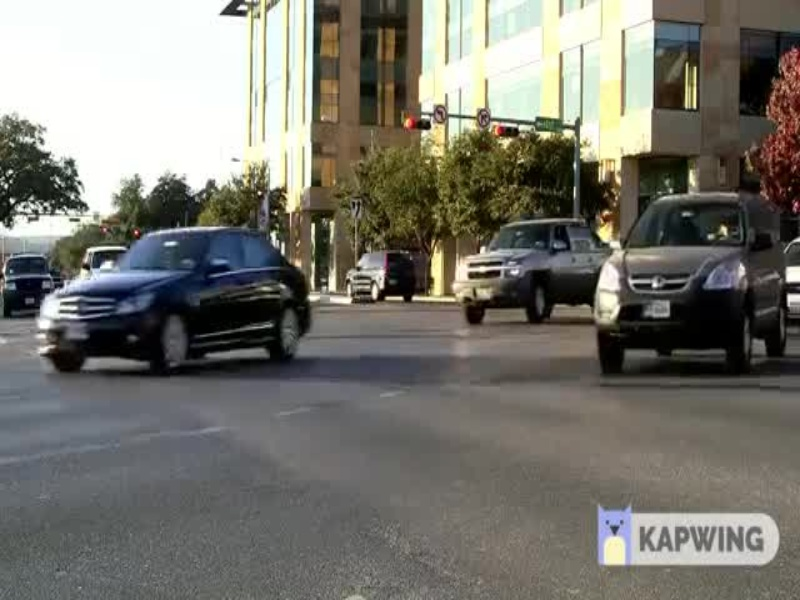car: (30, 219, 320, 363), (591, 187, 786, 382), (441, 215, 609, 328), (340, 239, 415, 306)
